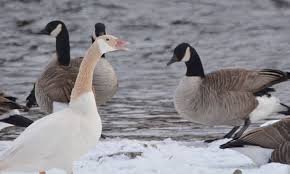goose: (1, 35, 133, 174), (162, 39, 288, 142), (35, 20, 86, 112), (87, 17, 118, 106)
